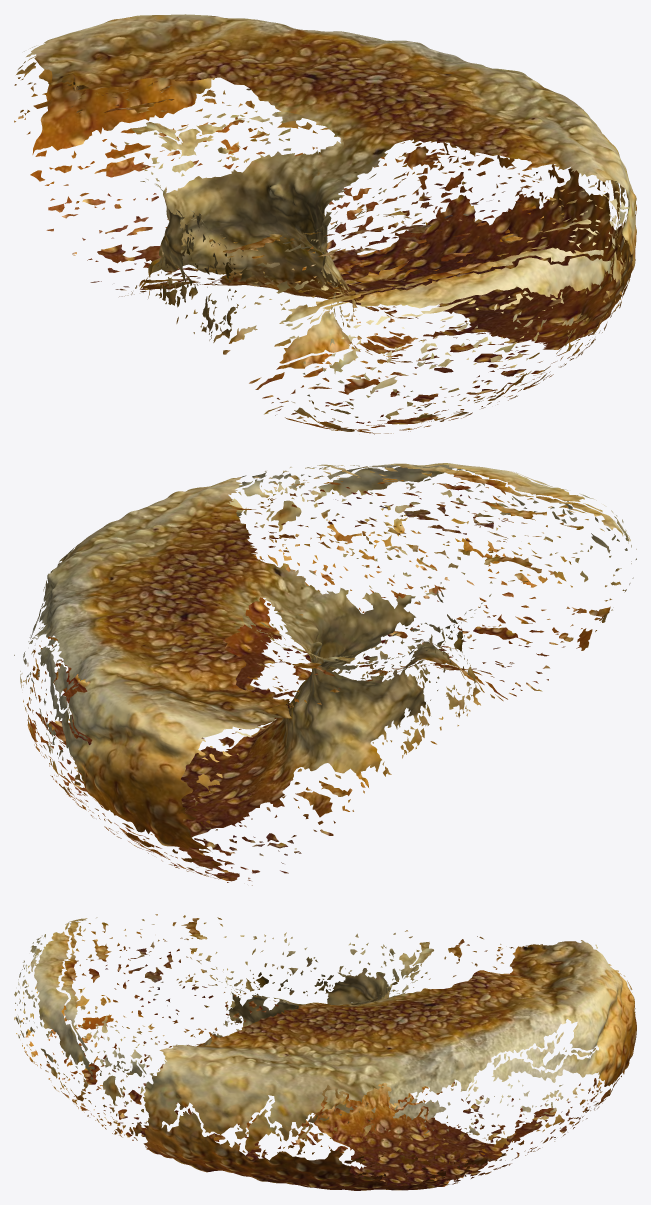
The model's file is bagel_1.obj.
3 views of the same model, one above another, from view 1: azimuth 30°, elevation 25°; view 2: azimuth 150°, elevation 25°; view 3: azimuth 270°, elevation 25° (orthographic). The views are drawn at different scales.
Bounding box in the file's own units: 2.35 × 1.02 × 3.59.
1 material, 1 textured.
